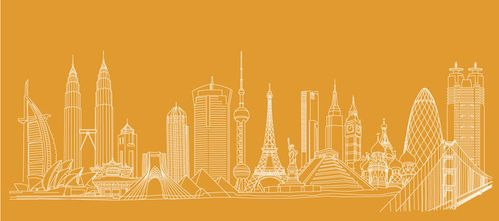buildings: (58, 46, 128, 196), (303, 82, 383, 202), (395, 74, 462, 206), (438, 60, 488, 196), (204, 54, 251, 191), (186, 67, 237, 192), (17, 83, 70, 200), (221, 49, 263, 196), (154, 86, 196, 204), (252, 74, 290, 191)
